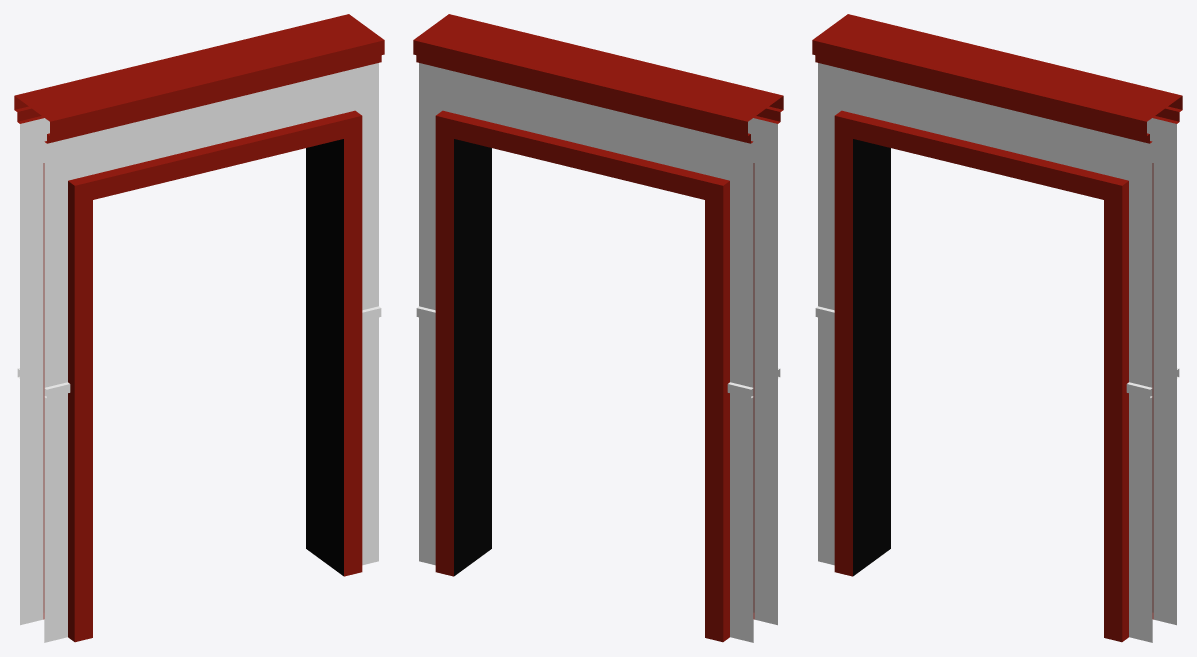
Rendered from SM_Wall_Door_2x3_02.fbx.
The picture shows the model from 3 angles, left to right: view 1: azimuth 30°, elevation 25°; view 2: azimuth 150°, elevation 25°; view 3: azimuth 330°, elevation 25°; orthographic projection.
Parts seen in each view (by area): view 1: SM_Wall_Door_2x3_02, Up_Wall_02, Down_Wall_02, Up_Wall_01, Down_Wall_01; view 2: SM_Wall_Door_2x3_02, Up_Wall_01, Down_Wall_01, Up_Wall_02, Down_Wall_02; view 3: SM_Wall_Door_2x3_02, Up_Wall_02, Down_Wall_02, Up_Wall_01, Down_Wall_01.
Part boxes in pixels (<box>): SM_Wall_Door_2x3_02: <box>14,14,384,642</box>; Up_Wall_02: <box>44,63,378,392</box>; Down_Wall_02: <box>44,317,378,642</box>; Up_Wall_01: <box>20,118,49,374</box>; Down_Wall_01: <box>20,369,43,625</box>; SM_Wall_Door_2x3_02: <box>413,14,783,642</box>; Up_Wall_01: <box>419,63,753,392</box>; Down_Wall_01: <box>419,317,753,642</box>; Up_Wall_02: <box>748,118,777,374</box>; Down_Wall_02: <box>754,369,777,625</box>; SM_Wall_Door_2x3_02: <box>812,14,1182,642</box>; Up_Wall_02: <box>818,63,1152,392</box>; Down_Wall_02: <box>818,317,1152,642</box>; Up_Wall_01: <box>1147,118,1176,374</box>; Down_Wall_01: <box>1153,369,1176,625</box>.
Bounding box in the file's own units: 78.74 × 118 × 15.53.
